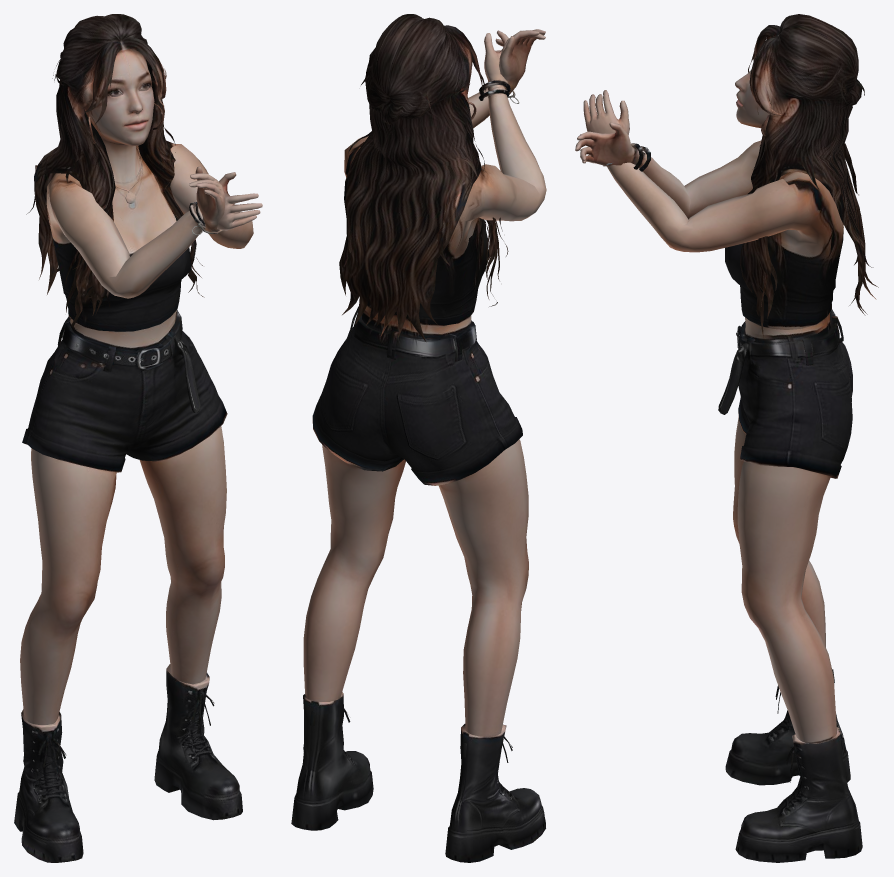
Rendered from fan_05_static_pose_1k.glb.
The picture shows the model from 3 angles, left to right: view 1: azimuth 30°, elevation 25°; view 2: azimuth 150°, elevation 25°; view 3: azimuth 270°, elevation 25°; orthographic projection. The views are drawn at different scales.
Parts seen in each view (by area): view 1: fan_05_baked_pose; view 2: fan_05_baked_pose; view 3: fan_05_baked_pose.
Part boxes in pixels (x1,y1,x2,y2): fan_05_baked_pose: [14, 14, 262, 862]; fan_05_baked_pose: [291, 14, 546, 862]; fan_05_baked_pose: [575, 14, 878, 862].
Size of the model in its own units: 0.2723 by 0.9892 by 0.3459.
1 material, 1 textured.
